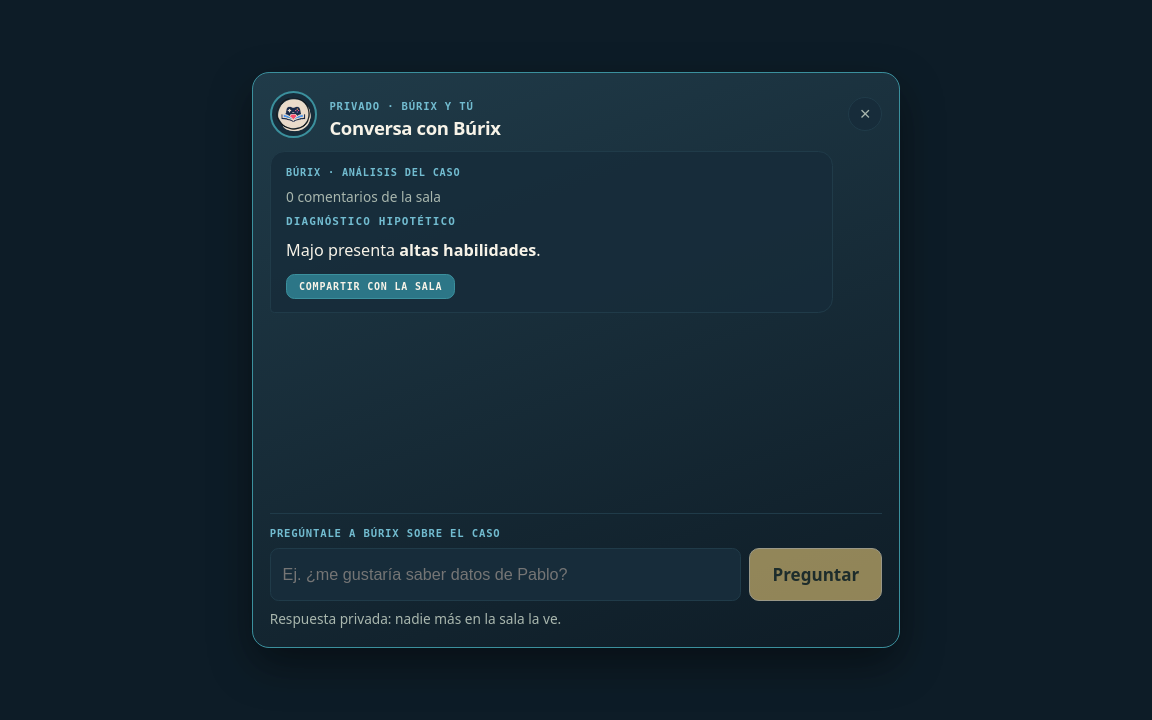
BurixPanel — private ask, works with the room closed › answers "datos de Pablo" privately and renders markdown, not raw
Expected: the element with test id "burix-analysis" is shown, [286,215,541,261]
Expected: the element with test id "burix-analysis" shows "Majo presenta", [286,240,399,262]
Type "Me gustaría saber datos de Pablo" into the field named "Pregunta privada a Búrix" at (505, 575), box [270,548,741,601]
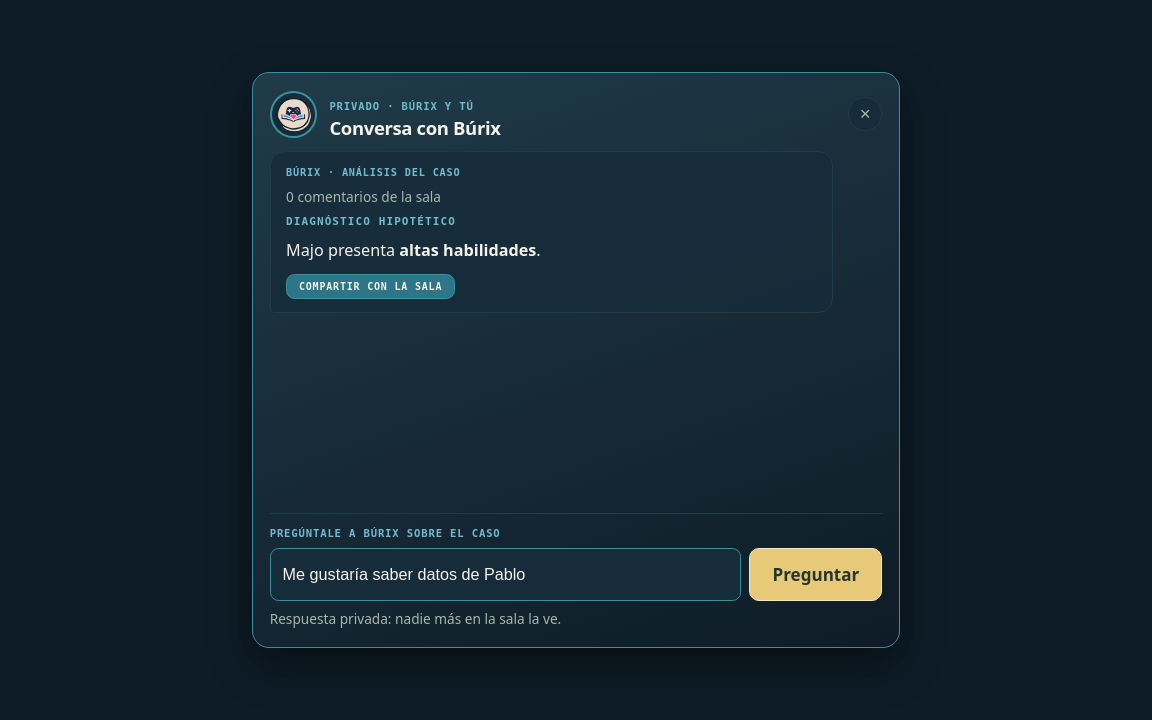
Click the button "Preguntar" at (816, 575), box [749,548,882,601]
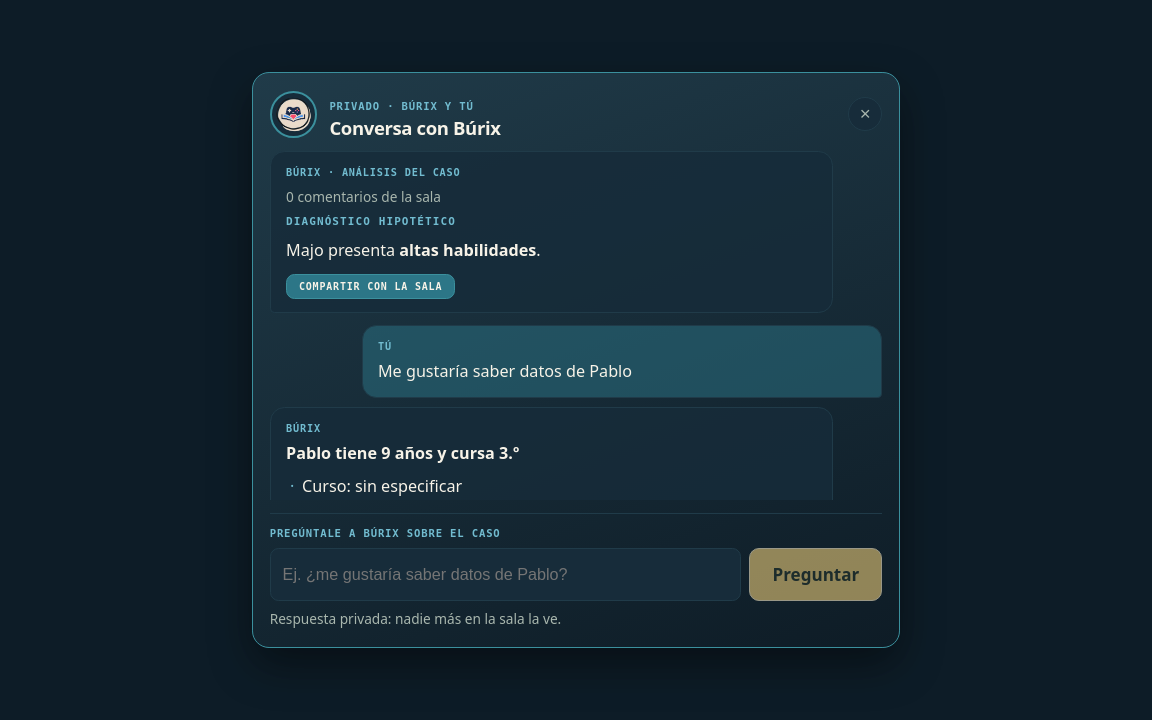
Expected: the text "Pablo tiene 9 años y cursa 3.º" is shown, [286,442,519,464]
Expected: the list item "Curso: sin especificar" is shown, [302,475,462,497]
Expected: the text "Me gustaría saber datos de Pablo" is shown, [378,360,632,382]
